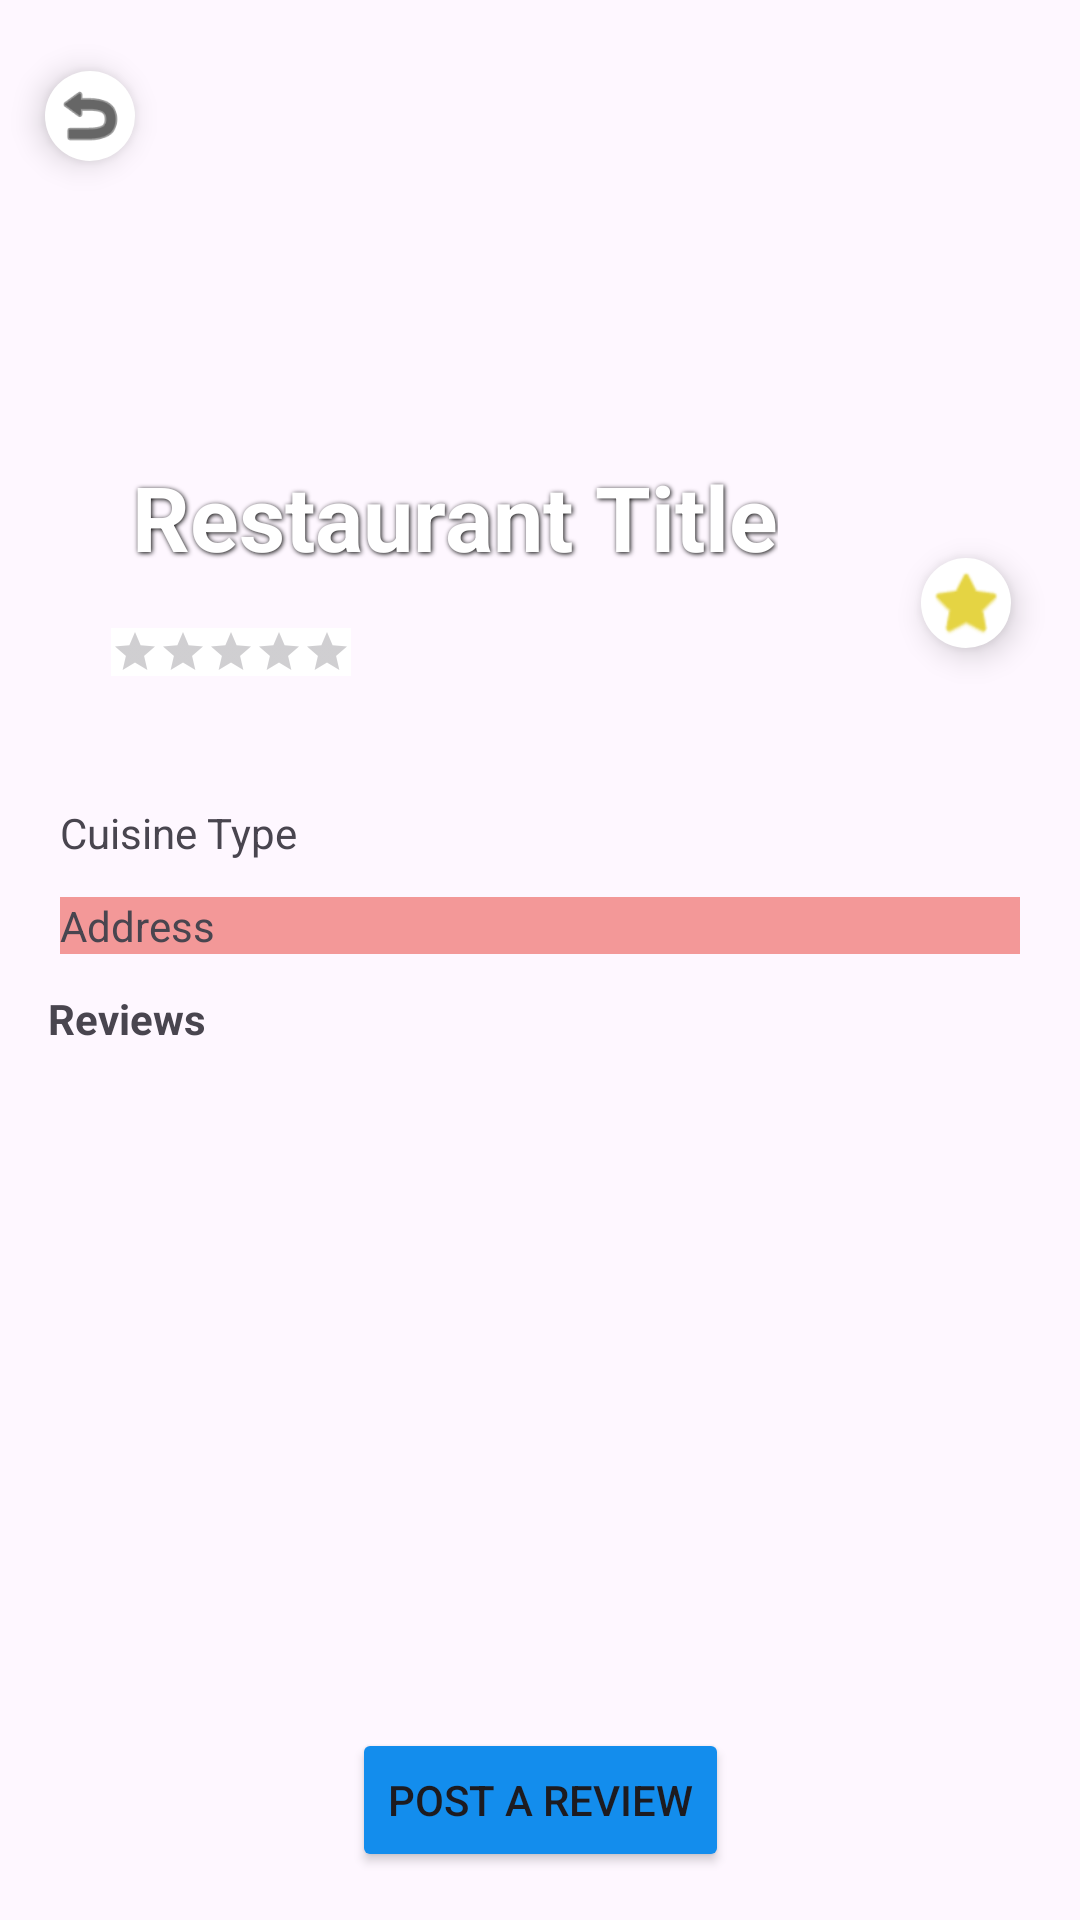

Icon bounding boxes for this 1080*1920 phone screenshot, format (x1, y1, x2, y2):
revert: (30, 63, 140, 172)
star on: (916, 554, 1026, 665)
